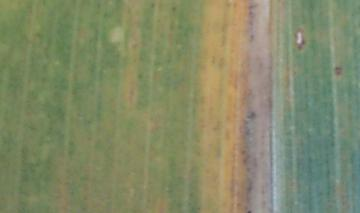tarspot: (294, 39, 305, 52), (333, 65, 343, 78), (244, 110, 256, 120), (169, 4, 178, 14), (136, 71, 144, 82), (246, 34, 254, 43), (149, 2, 156, 10), (245, 208, 251, 213)
